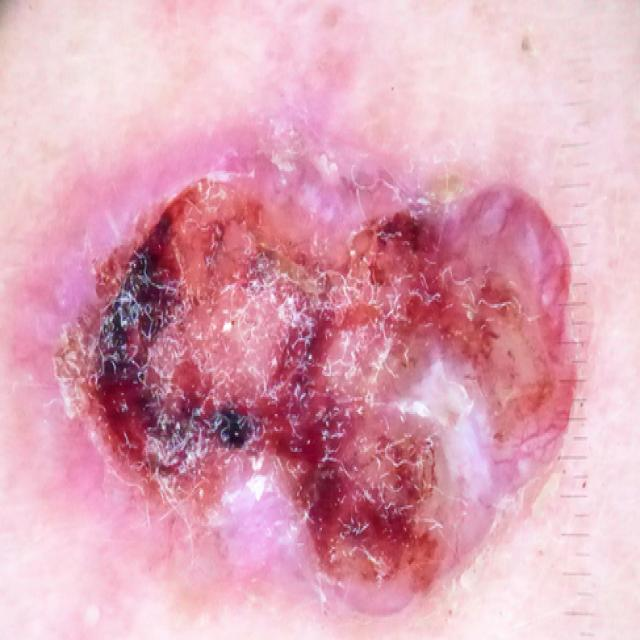Carcinoma: (17, 129, 640, 631)
